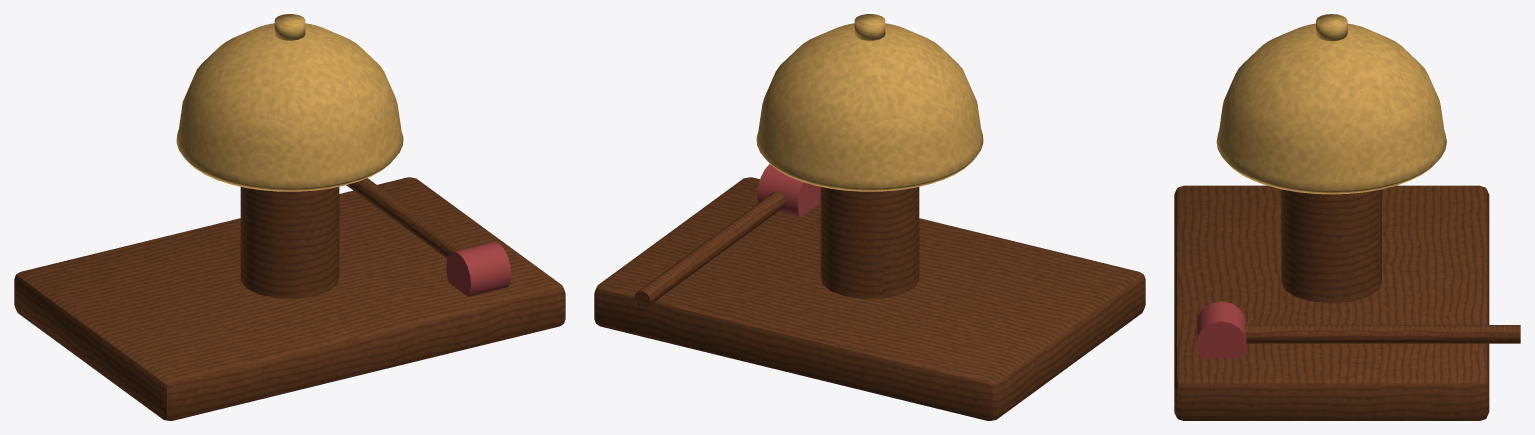
The model's file is ring_bell.glb.
3 views of the same model, side by side, from view 1: azimuth 30°, elevation 25°; view 2: azimuth 150°, elevation 25°; view 3: azimuth 270°, elevation 25° (orthographic).
Visible parts, largest first — view 1: RingBell_Clean_base, RingBell_Clean_bell, RingBell_Clean_hammer_head, RingBell_Clean_hammer; view 2: RingBell_Clean_base, RingBell_Clean_bell, RingBell_Clean_hammer, RingBell_Clean_hammer_head; view 3: RingBell_Clean_base, RingBell_Clean_bell, RingBell_Clean_hammer, RingBell_Clean_hammer_head.
Part boxes in pixels (box(x1,y1,x2,y2)): RingBell_Clean_base: box(14, 177, 565, 420); RingBell_Clean_bell: box(176, 14, 403, 191); RingBell_Clean_hammer_head: box(446, 242, 511, 296); RingBell_Clean_hammer: box(346, 178, 463, 258); RingBell_Clean_base: box(594, 177, 1145, 420); RingBell_Clean_bell: box(756, 14, 983, 191); RingBell_Clean_hammer: box(634, 191, 785, 307); RingBell_Clean_hammer_head: box(757, 164, 820, 217); RingBell_Clean_base: box(1174, 185, 1489, 420); RingBell_Clean_bell: box(1216, 14, 1446, 194); RingBell_Clean_hammer: box(1245, 325, 1520, 343); RingBell_Clean_hammer_head: box(1196, 301, 1246, 358).
Bounding box in the file's own units: 0.3 × 0.213 × 0.22.
3 materials, 2 textured.
